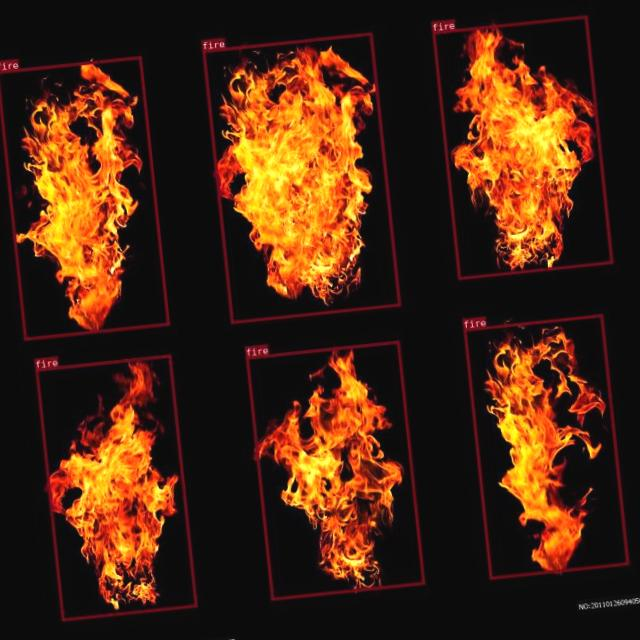fire: (201, 32, 400, 323), (0, 54, 169, 339), (431, 14, 612, 279), (245, 340, 424, 600), (462, 313, 629, 578), (35, 354, 196, 620)
